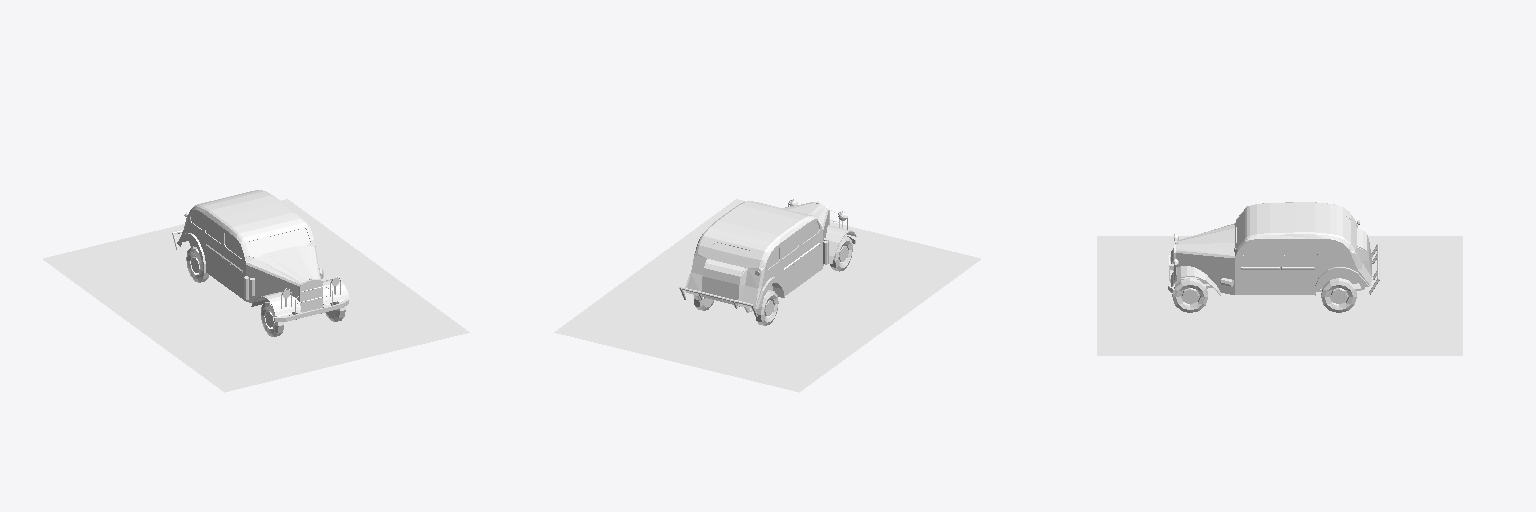
Rendered from SWEVolvoTPV.obj.
The picture shows the model from 3 angles: view 1: azimuth 30°, elevation 25°; view 2: azimuth 150°, elevation 25°; view 3: azimuth 270°, elevation 25°; orthographic projection.
Visible parts, largest first — view 1: g0; view 2: g0; view 3: g0.
Boxes of the visible parts, box(x1,y1,x2,y2) form: g0: box(43, 190, 469, 392); g0: box(554, 199, 980, 392); g0: box(1097, 202, 1462, 355).
Size of the model in its own units: 50.64 by 15.62 by 65.22.